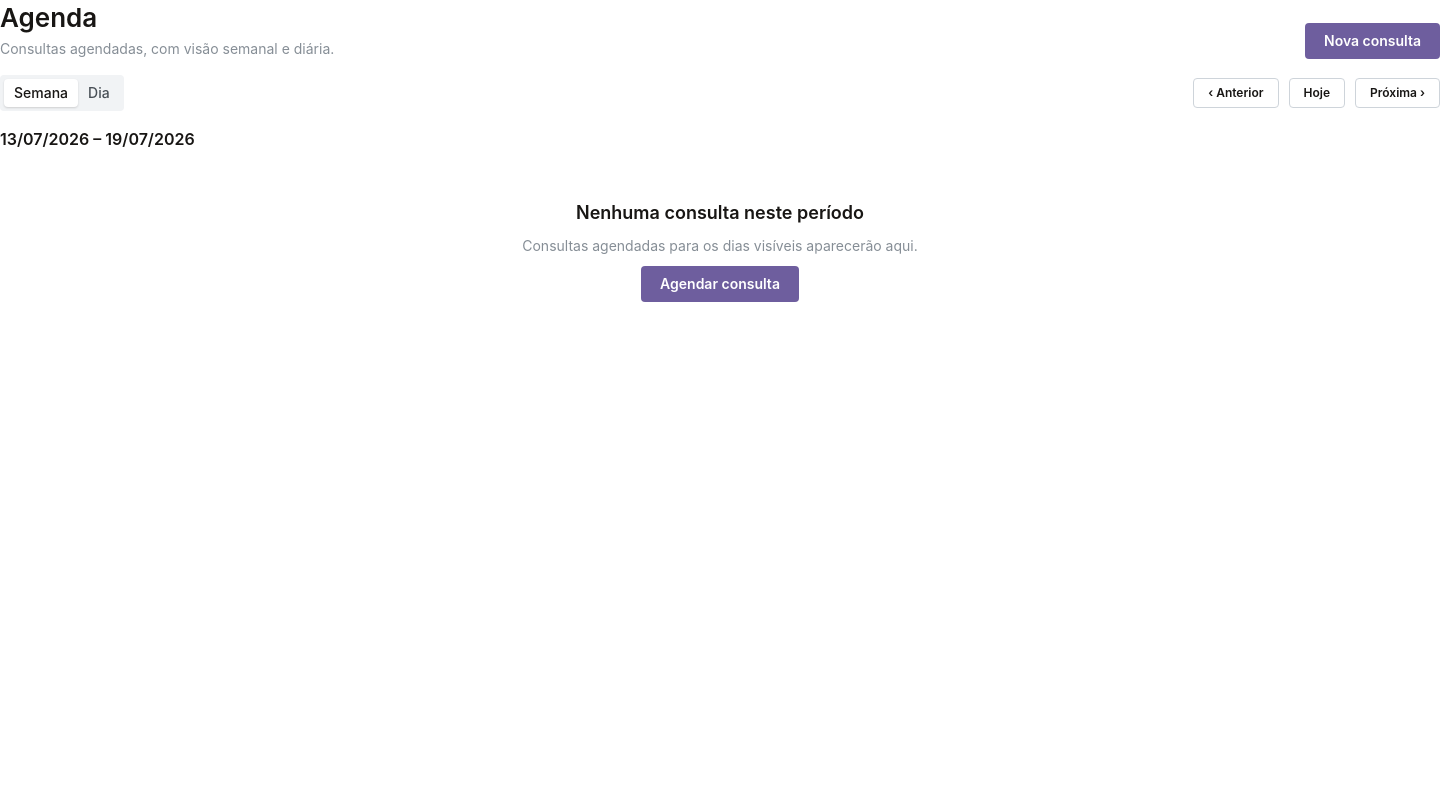
Scenario: AgendaPage — registrar desfecho (PSI-036) › registra presença ('compareceu') com anotação administrativa e atualiza o status para 'realizada'
The width and height of the screenshot is (1440, 810).
Expected: the heading "Nenhuma consulta neste período" is shown, [576,200,864,226]
Click the button with aria-label "Período anterior": (1236, 93) [1193,78,1279,108]
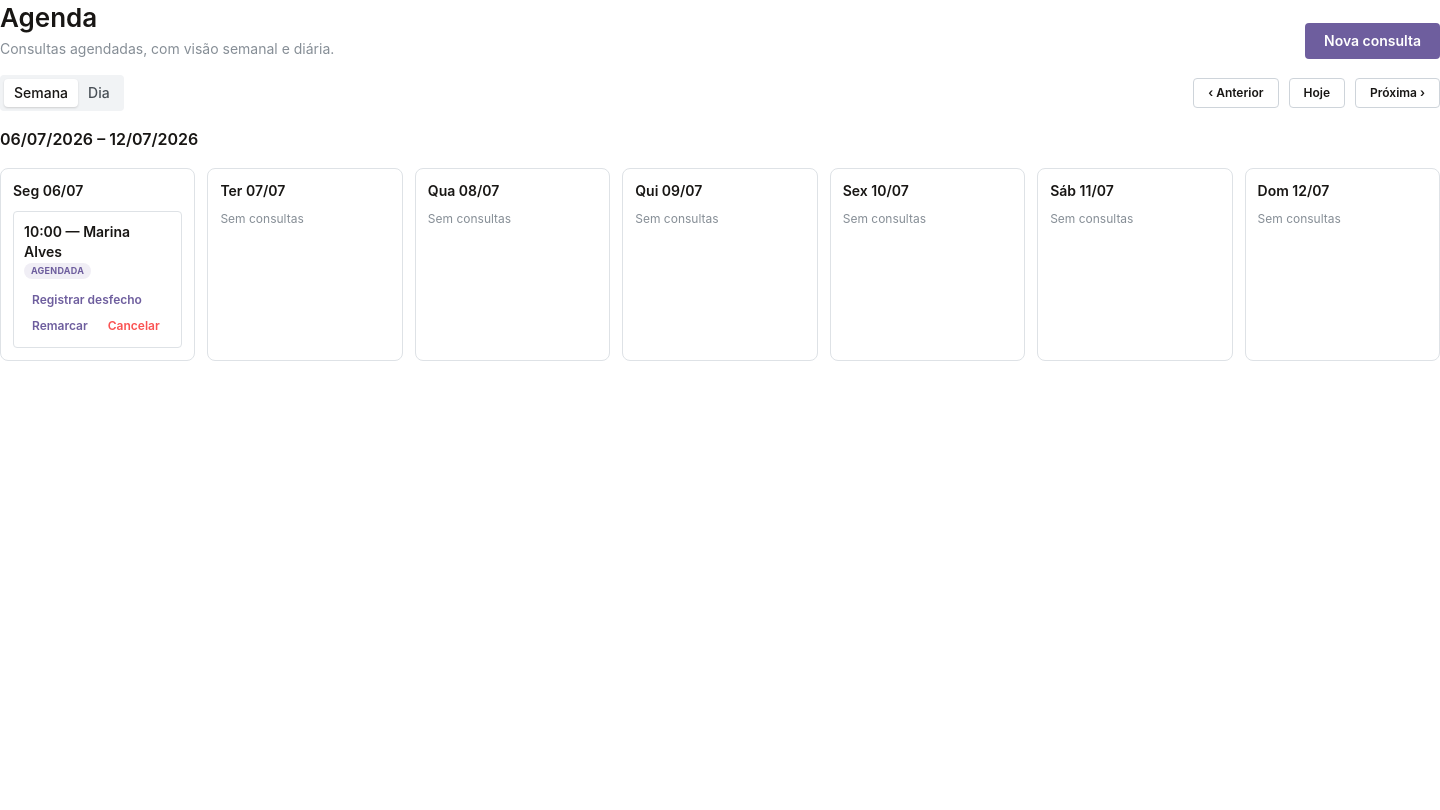
Result: the element with test id "agenda-week-view" is shown at [0,168,1439,361]
Click the button "Registrar desfecho": (87, 300) [24,289,150,311]
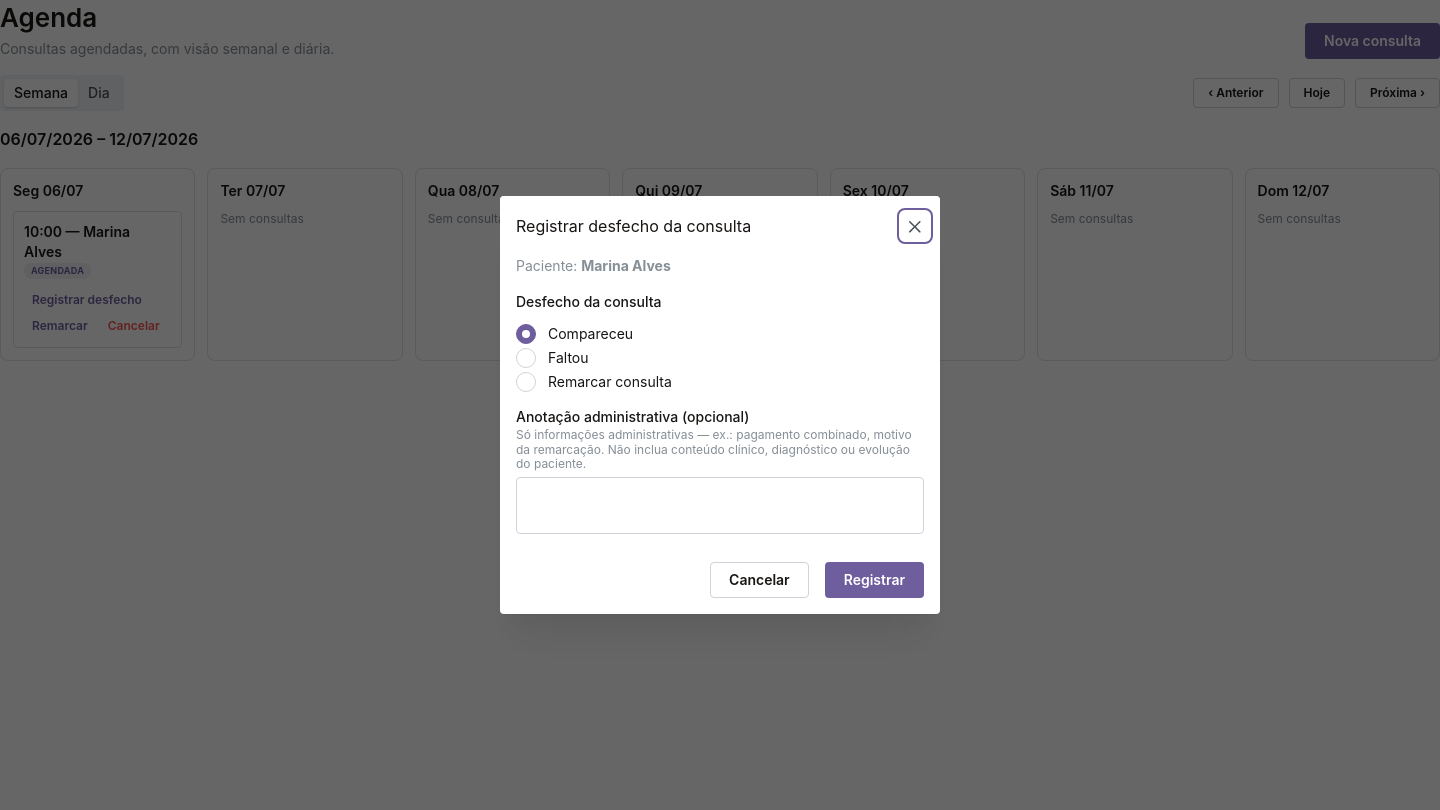
Result: the radio button labelled "Compareceu" is checked at [516,324,536,344]
In the text box labelled "Anotação administrativa (opcional)": (720, 505) [516,476,924,534], type "Pagamento combinado para o dia 10."
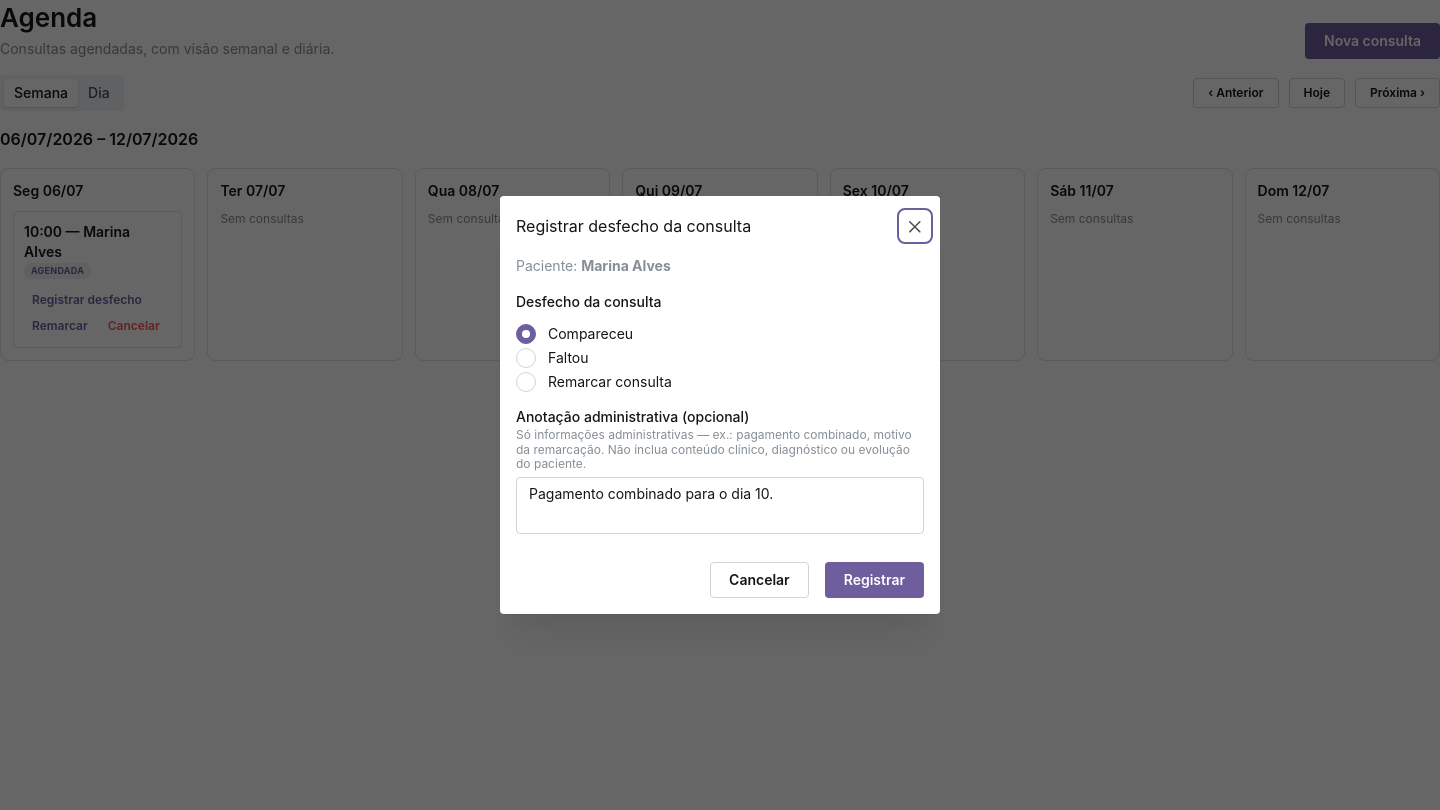
Click the button "Registrar": (874, 580) [825,562,924,598]
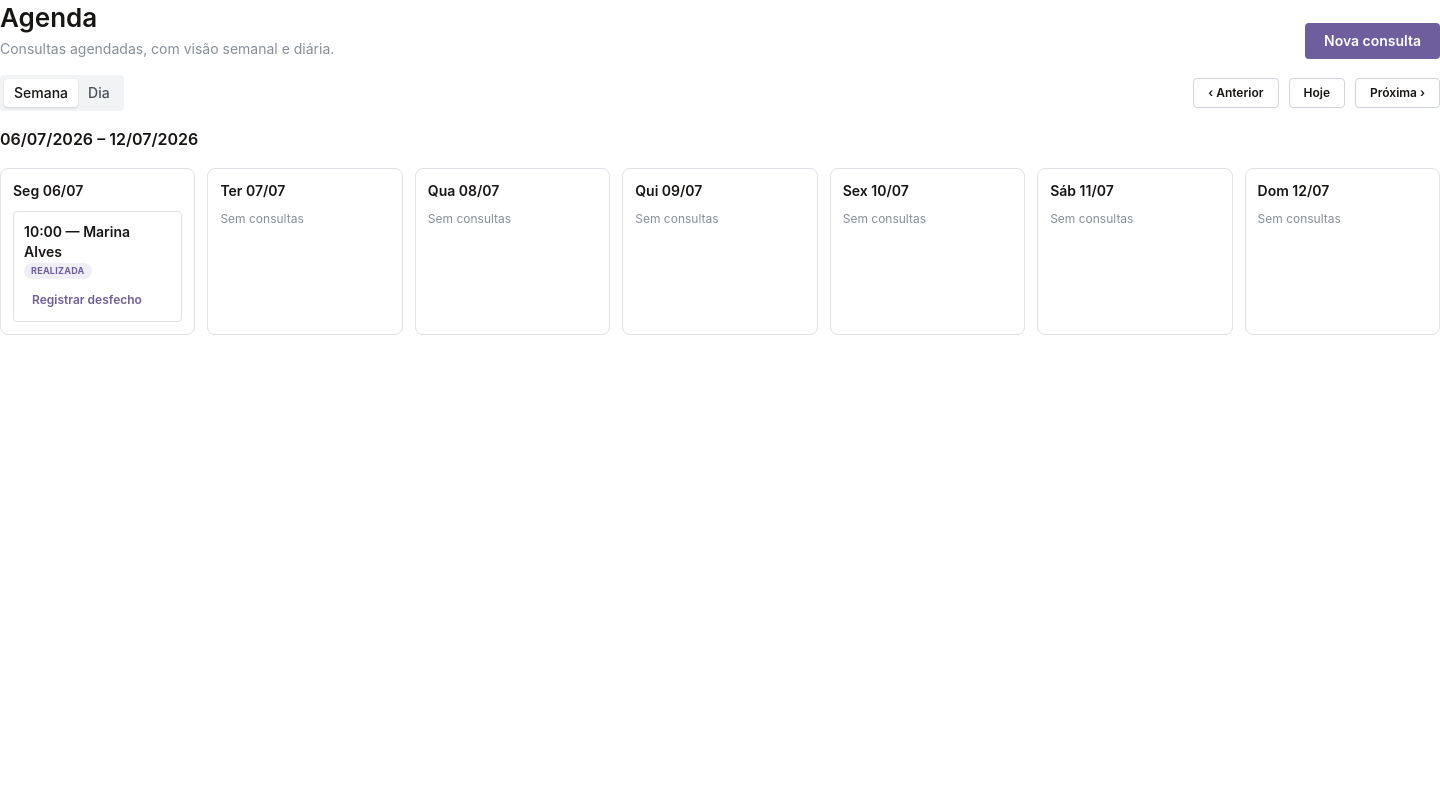
Result: the form with test id "attendance-record-form" is gone
Result: the text "Realizada" is shown at [31,264,84,278]
